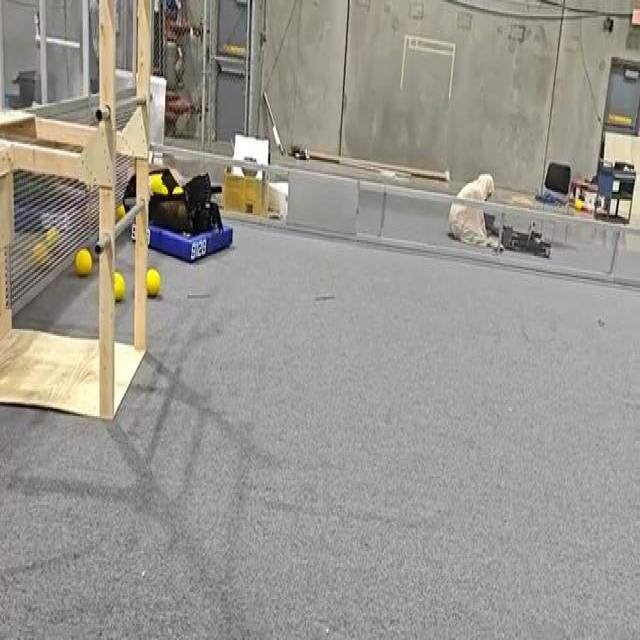Fuel: (75, 249, 91, 275), (146, 268, 160, 297), (113, 272, 126, 301), (32, 242, 47, 265), (114, 272, 125, 300), (46, 227, 59, 247), (45, 228, 58, 247), (116, 204, 125, 218)
